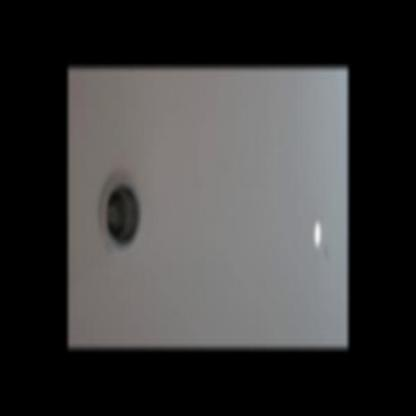light_off: (92, 159, 149, 265)
